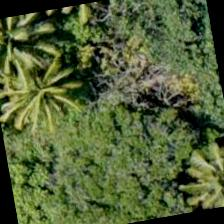Kelapa_Sawit: (0, 37, 99, 142), (0, 10, 58, 82), (174, 130, 223, 212)
